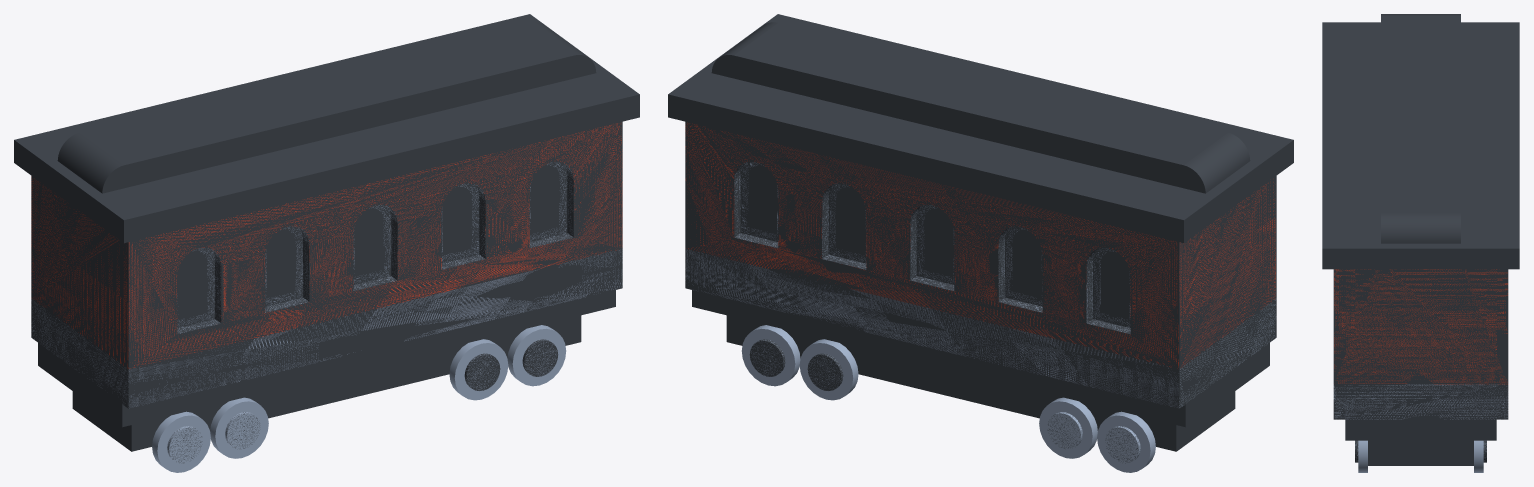
Rendered from trainWagon.dae.
The picture shows the model from 3 angles, left to right: view 1: azimuth 30°, elevation 25°; view 2: azimuth 150°, elevation 25°; view 3: azimuth 270°, elevation 25°; orthographic projection. The views are drawn at different scales.
Parts seen in each view (by area): view 1: trainWagon, wheel (×2); view 2: trainWagon, wheel (×2); view 3: trainWagon, wheel.
Boxes of the visible parts, x1,y1,x2,y2 form: trainWagon: (14,14,639,451); wheel (×2): (152,325,566,472); trainWagon: (668,14,1293,451); wheel (×2): (741,325,1155,472); trainWagon: (1322,14,1519,465); wheel: (1355,440,1486,472).
Size of the model in its own units: 0.4684 by 0.2684 by 0.1727.
